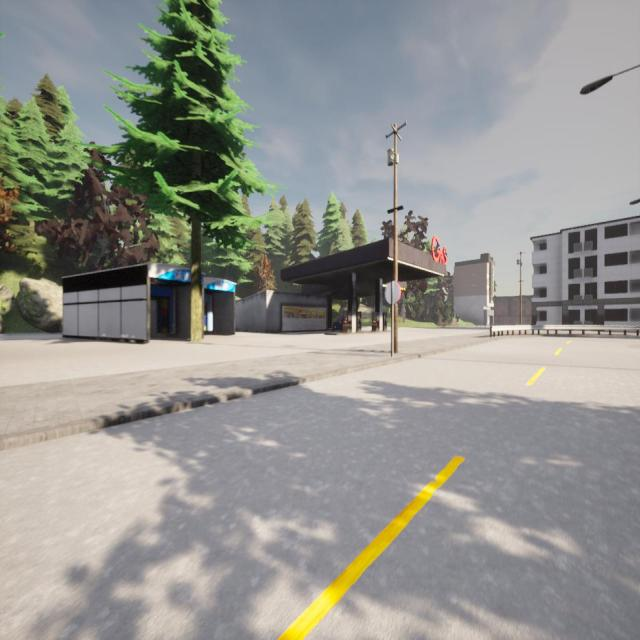Traffic_Signs: (385, 280, 401, 304)
